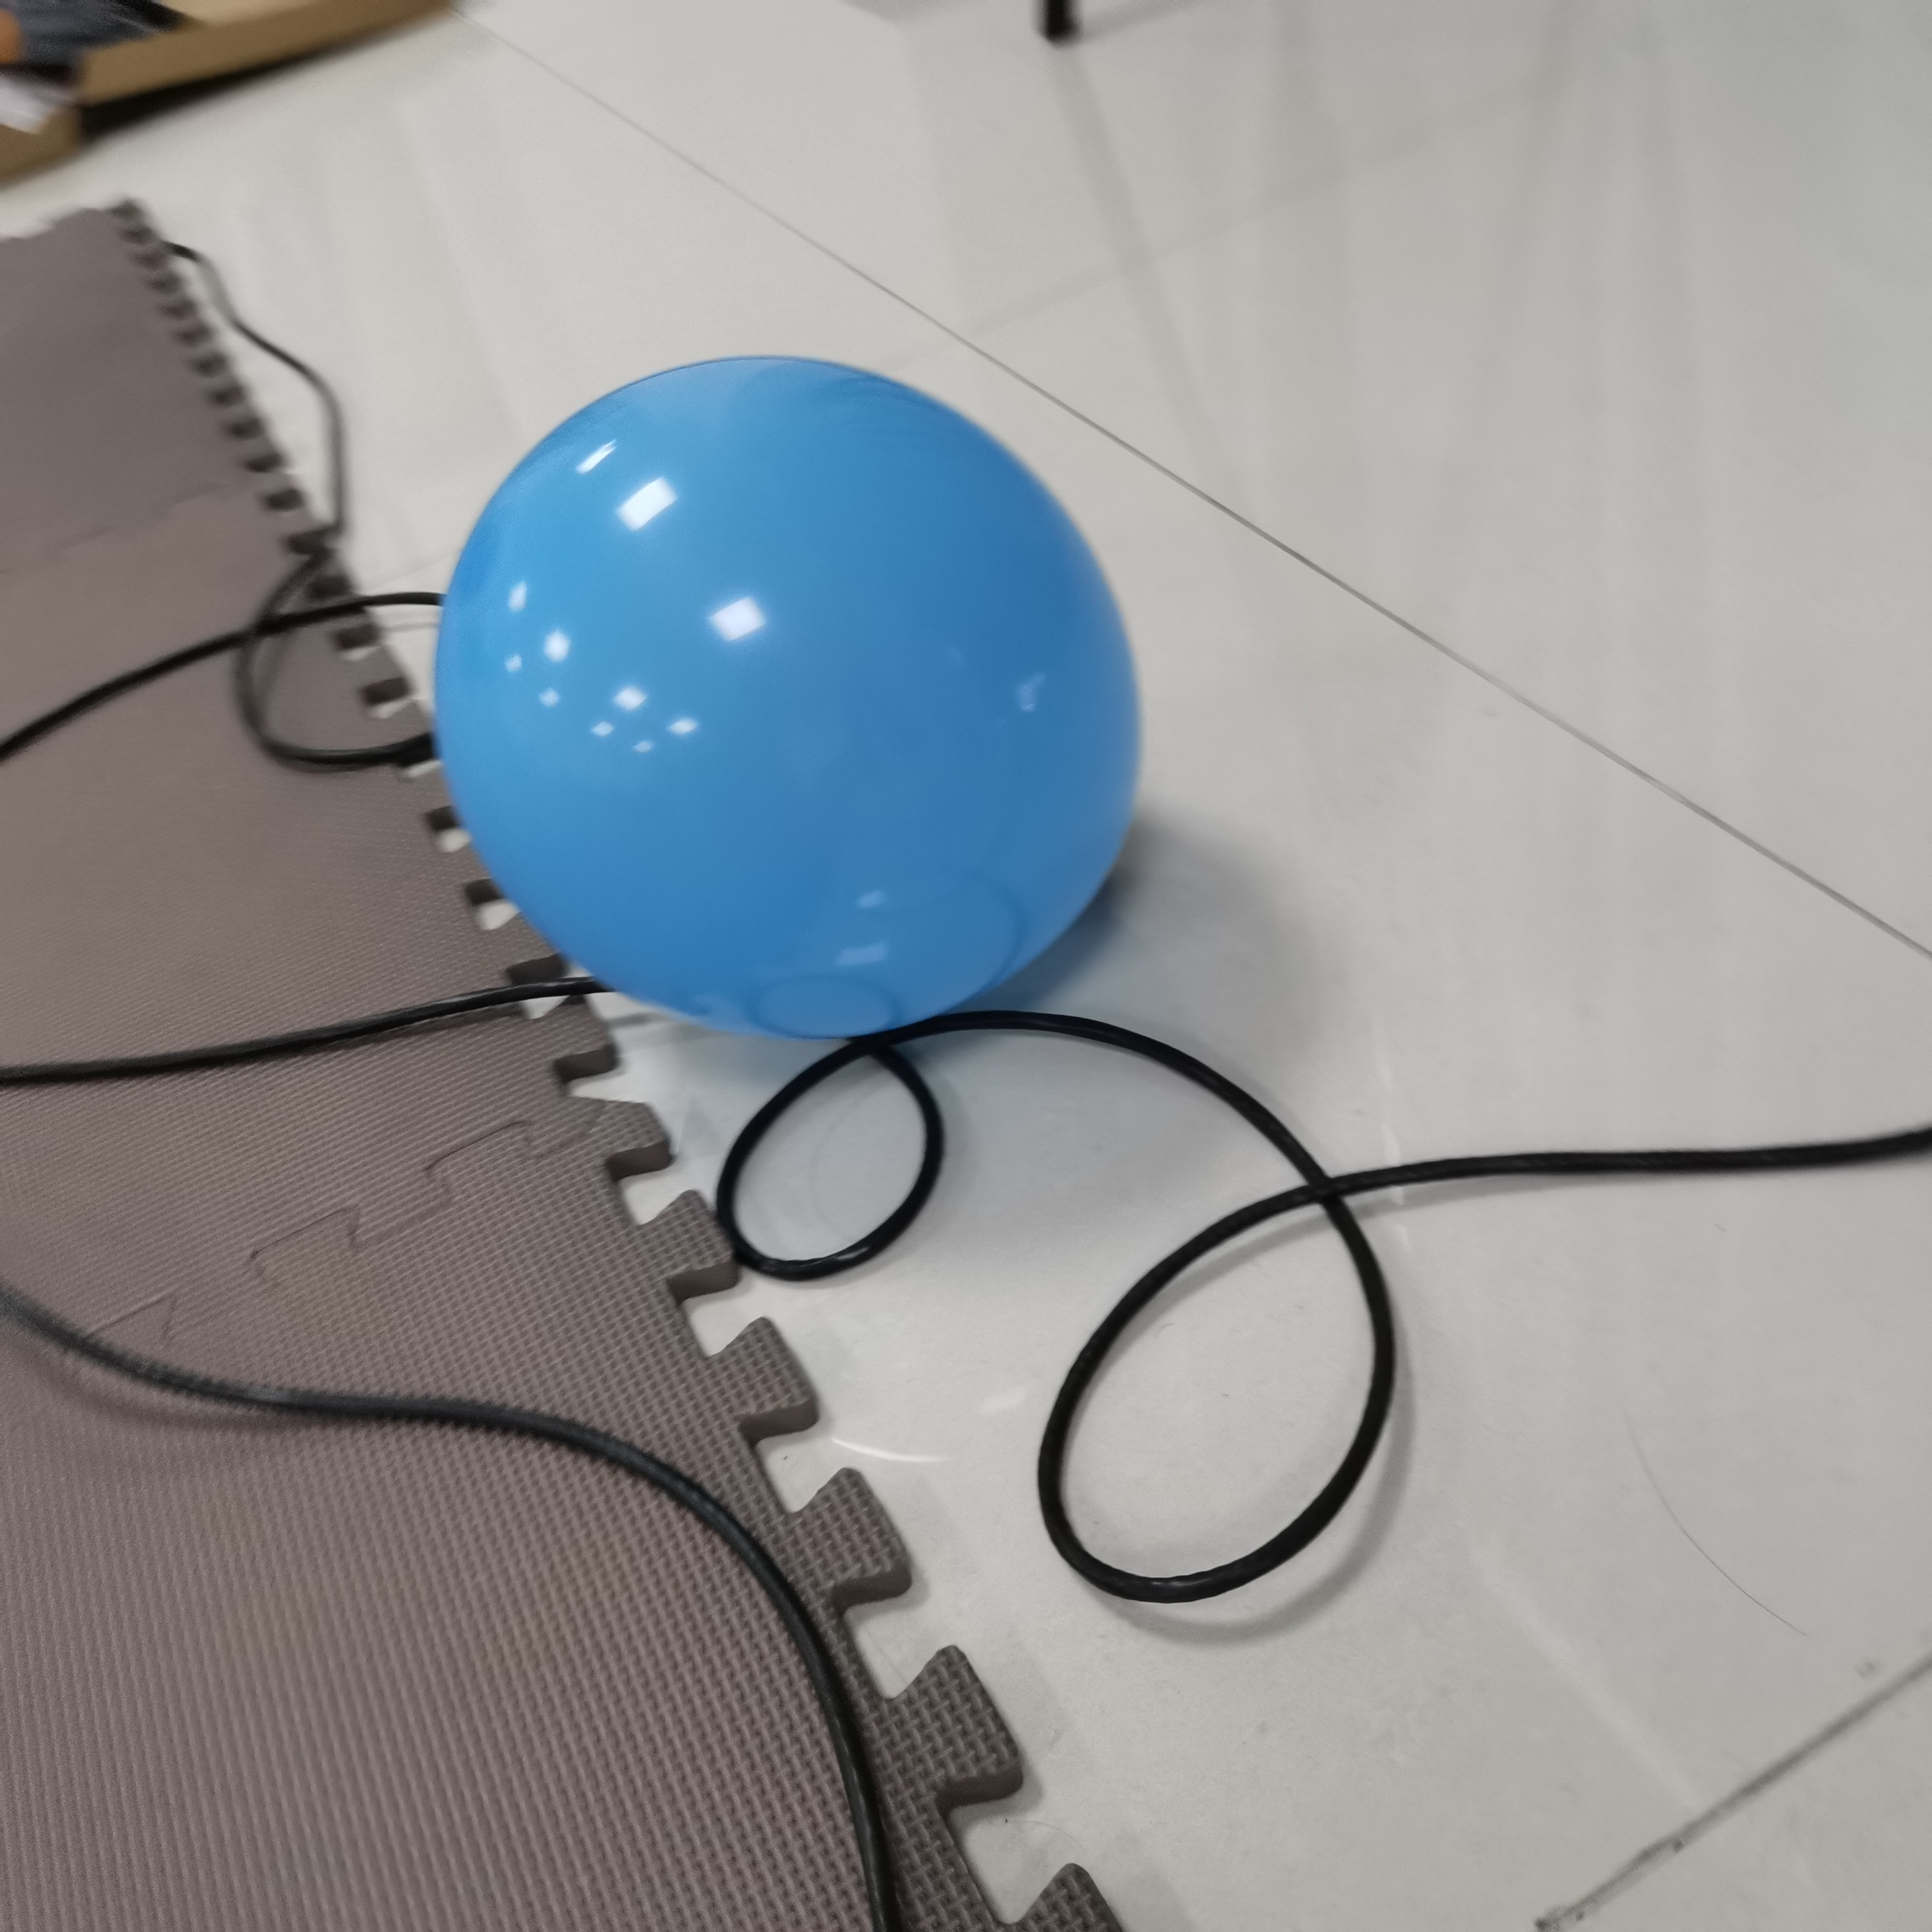balloon: (437, 354, 1138, 1047)
